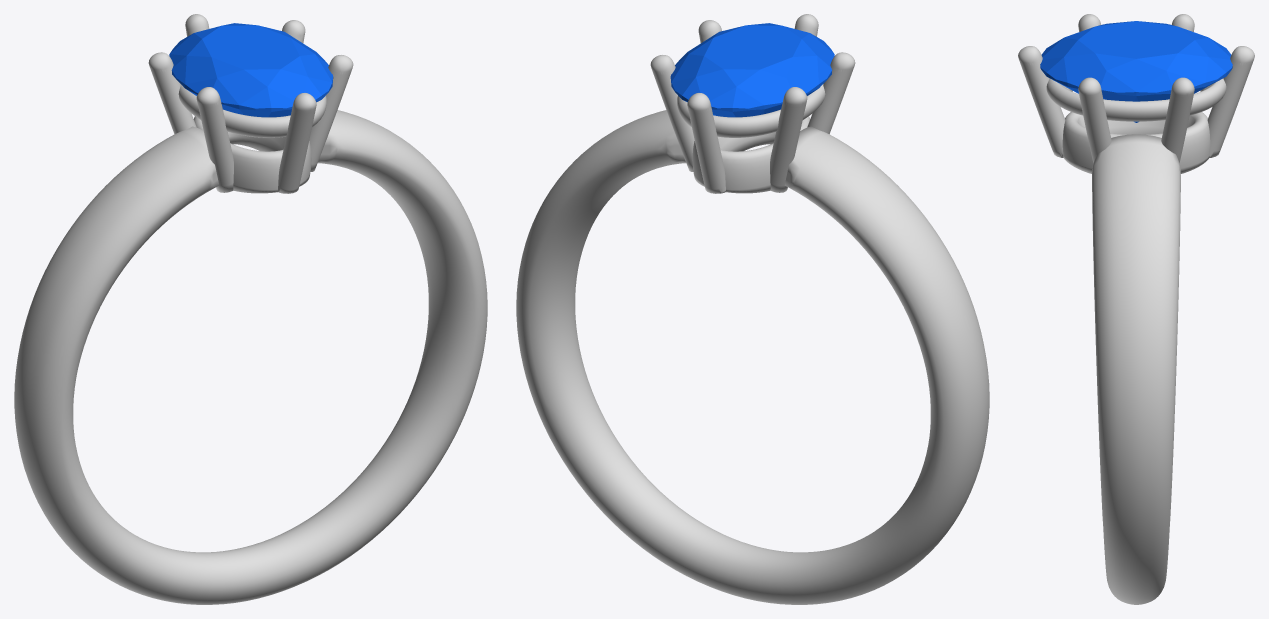
The model's file is bluesapphire-oval-platinum-6prong-taperedband-nosidestones.glb.
The picture shows the model from 3 angles, left to right: view 1: azimuth 30°, elevation 25°; view 2: azimuth 150°, elevation 25°; view 3: azimuth 270°, elevation 25°; orthographic projection.
Parts seen in each view (by area): view 1: metal, stone; view 2: metal, stone; view 3: metal, stone.
Boxes of the visible parts, x1,y1,x2,y2 form: metal: (14, 14, 487, 604); stone: (169, 23, 333, 117); metal: (516, 14, 989, 604); stone: (670, 23, 834, 117); metal: (1018, 14, 1254, 604); stone: (1040, 21, 1232, 122).
Bounding box in the file's own units: 20.48 × 23.4 × 9.29.
